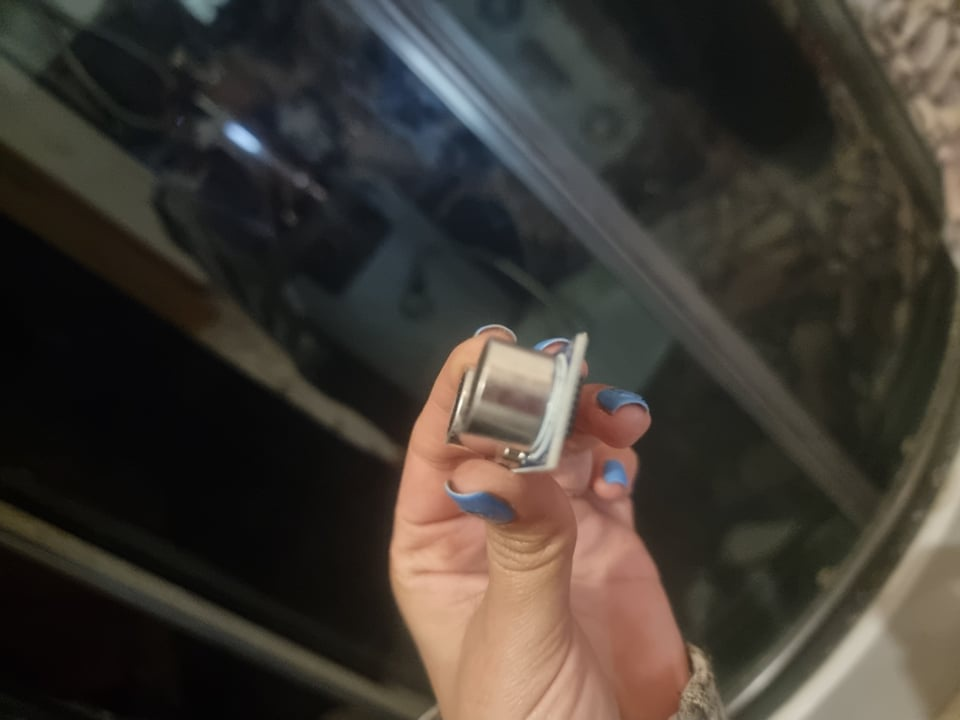SENSOR: (444, 331, 591, 474)
